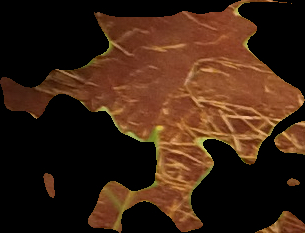soil: (4, 2, 302, 233)
